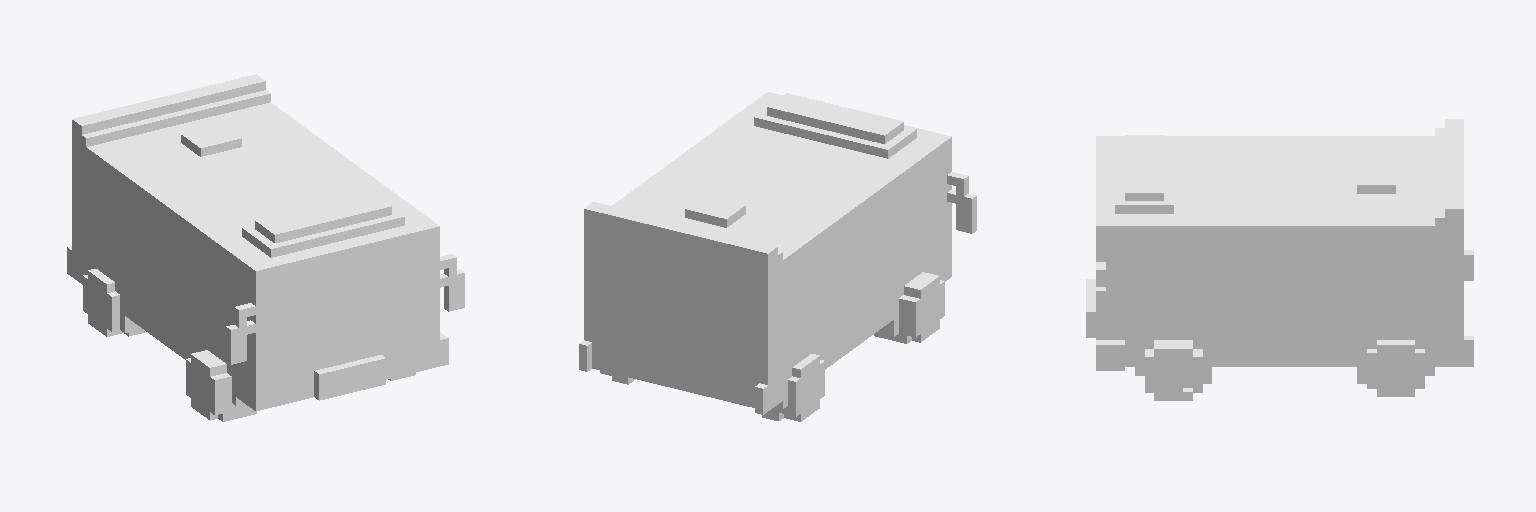
Rendered from bus1.obj.
3 views of the same model, side by side, from view 1: azimuth 30°, elevation 25°; view 2: azimuth 150°, elevation 25°; view 3: azimuth 270°, elevation 25° (orthographic).
Parts seen in each view (by area): view 1: object 1; view 2: object 1; view 3: object 1.
Part boxes in pixels (bbox=[...]): object 1: bbox=[67, 74, 464, 421]; object 1: bbox=[579, 92, 976, 421]; object 1: bbox=[1086, 119, 1473, 400].
Bounding box in the file's own units: 2.8 × 2.1 × 4.